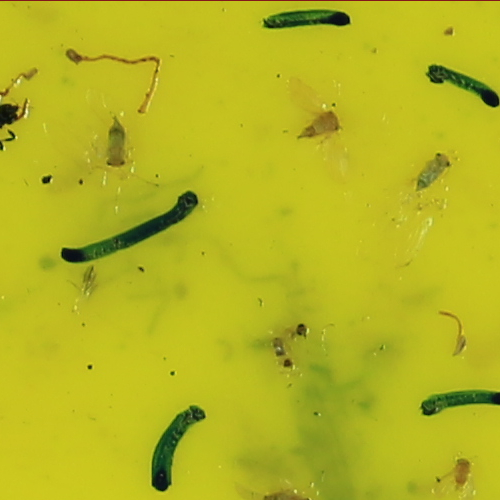Glycaspis: (417, 149, 456, 190), (102, 115, 128, 170)
Platyobria: (295, 105, 346, 143), (450, 455, 472, 486)
